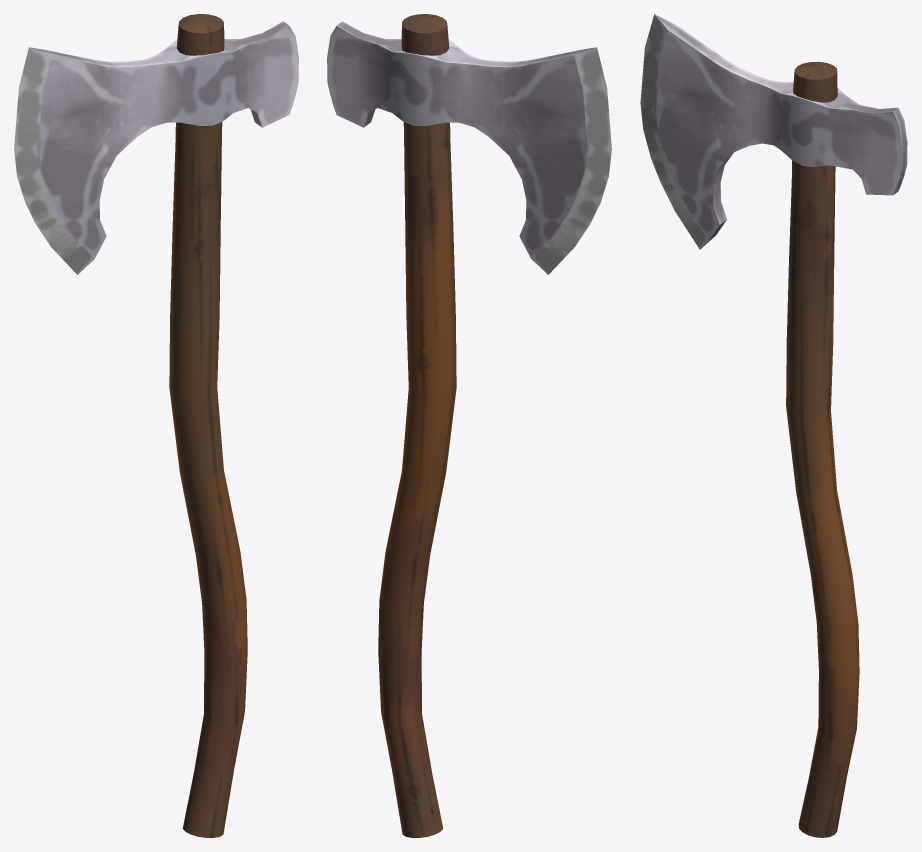
File: Axe_Steel.fbx
The picture shows the model from 3 angles, left to right: view 1: azimuth 30°, elevation 25°; view 2: azimuth 150°, elevation 25°; view 3: azimuth 330°, elevation 25°; orthographic projection. The views are drawn at different scales.
Parts seen in each view (by area): view 1: Axe_Steel; view 2: Axe_Steel; view 3: Axe_Steel.
Boxes of the visible parts, x1=… form: Axe_Steel: x1=14, y1=14, x2=298, y2=837; Axe_Steel: x1=327, y1=14, x2=611, y2=837; Axe_Steel: x1=640, y1=14, x2=907, y2=837.
Size of the model in its own units: 29.45 by 82.69 by 4.6.
